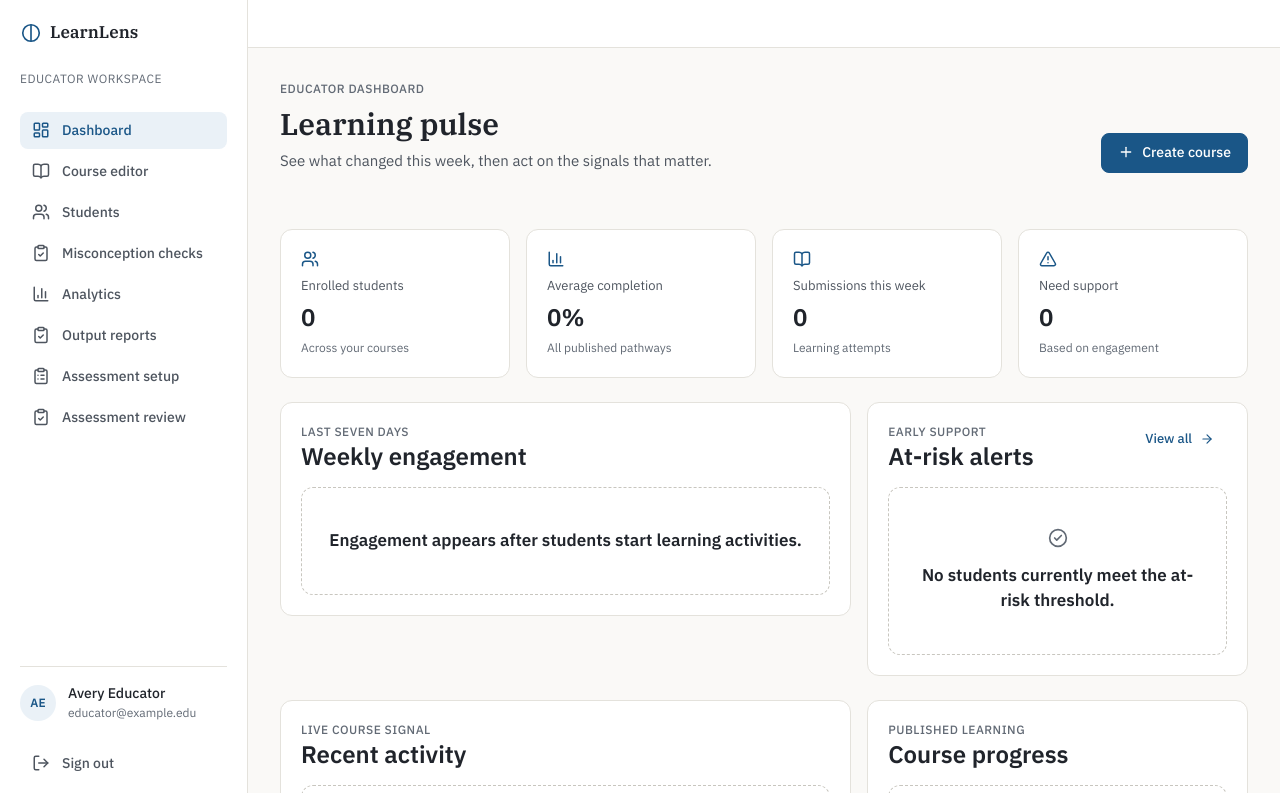
Test: assessor navigation follows active server assignments
What coordinates should you click on to do the following:
click the link "Assessment setup"
I would click on:
 (106, 376)
Its box is [32,366,179,385].
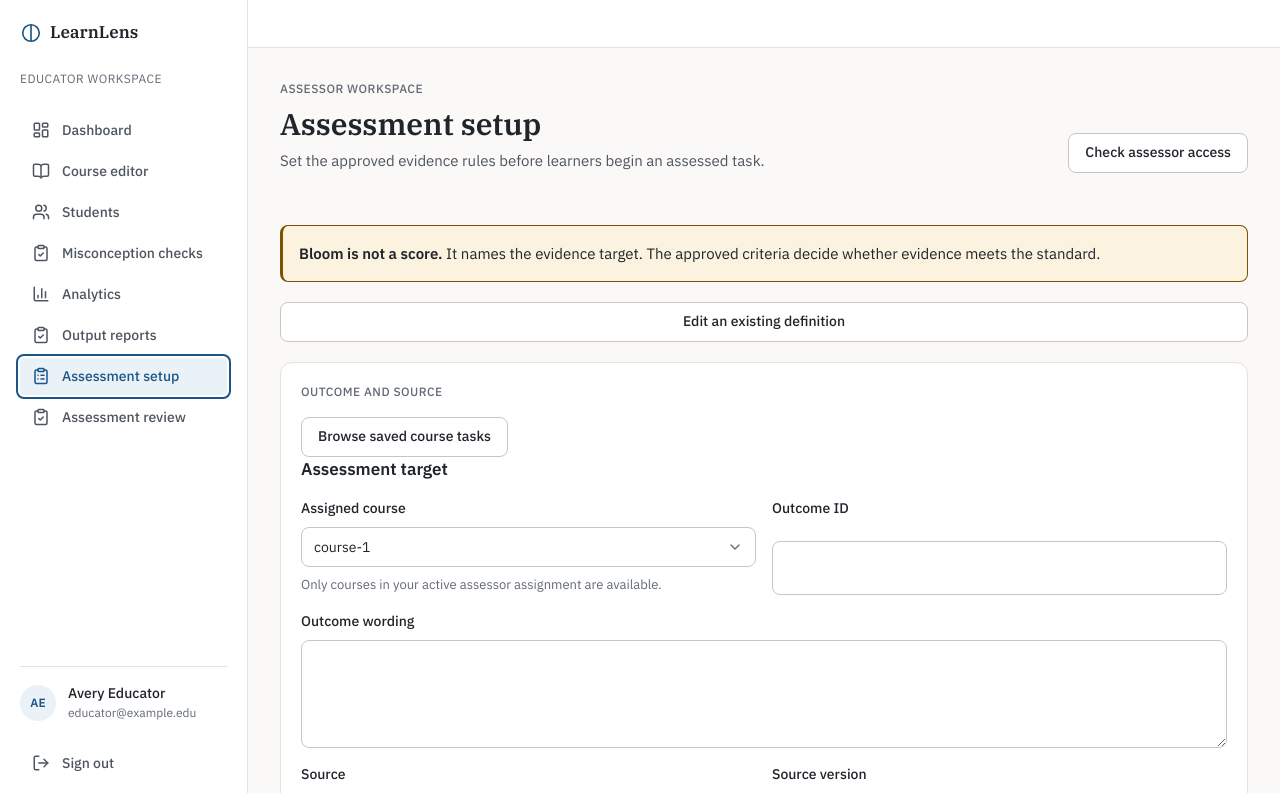
Check: the heading "Assessment setup" is shown, box [280,104,541,143]
What coordinates should you click on to do the following:
click the button "Check assessor access"
I would click on:
 (1158, 152)
Its box is [1068,132,1248,172].
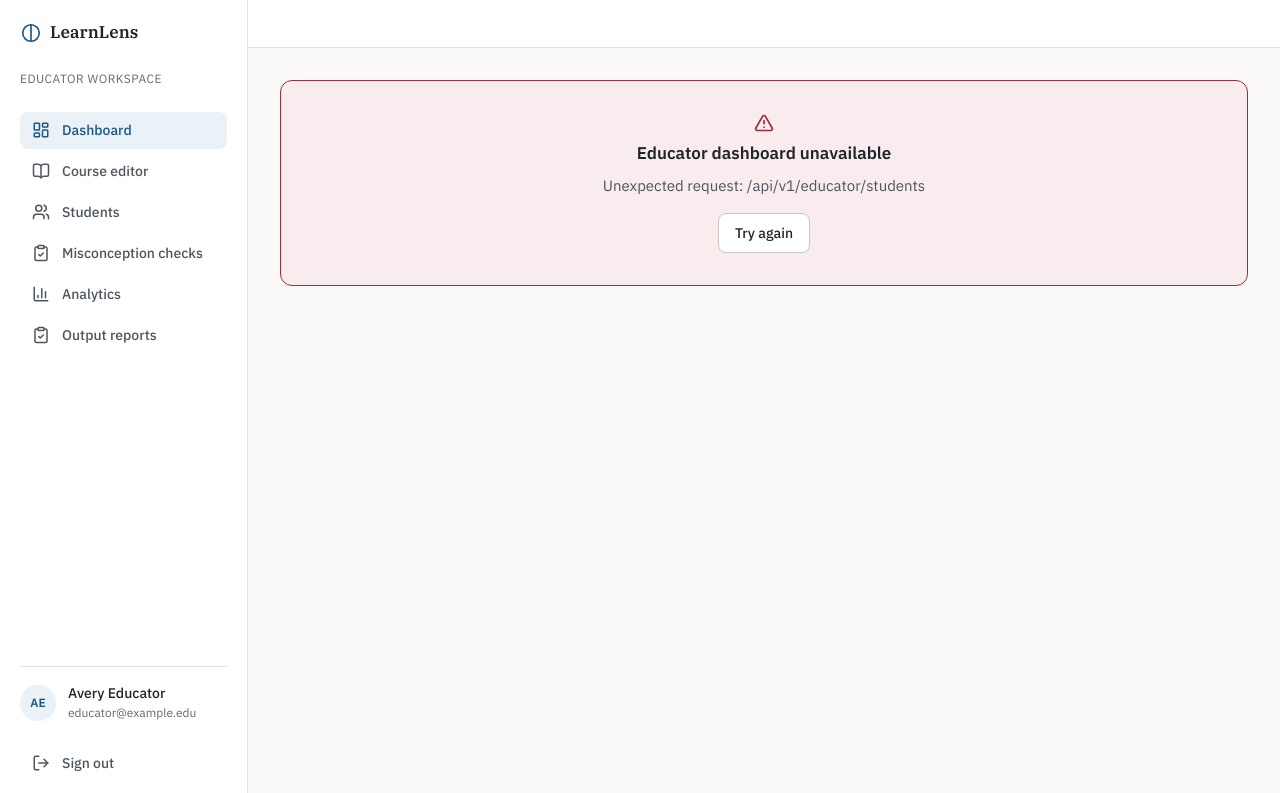
Check: the link "Assessment setup" is gone
